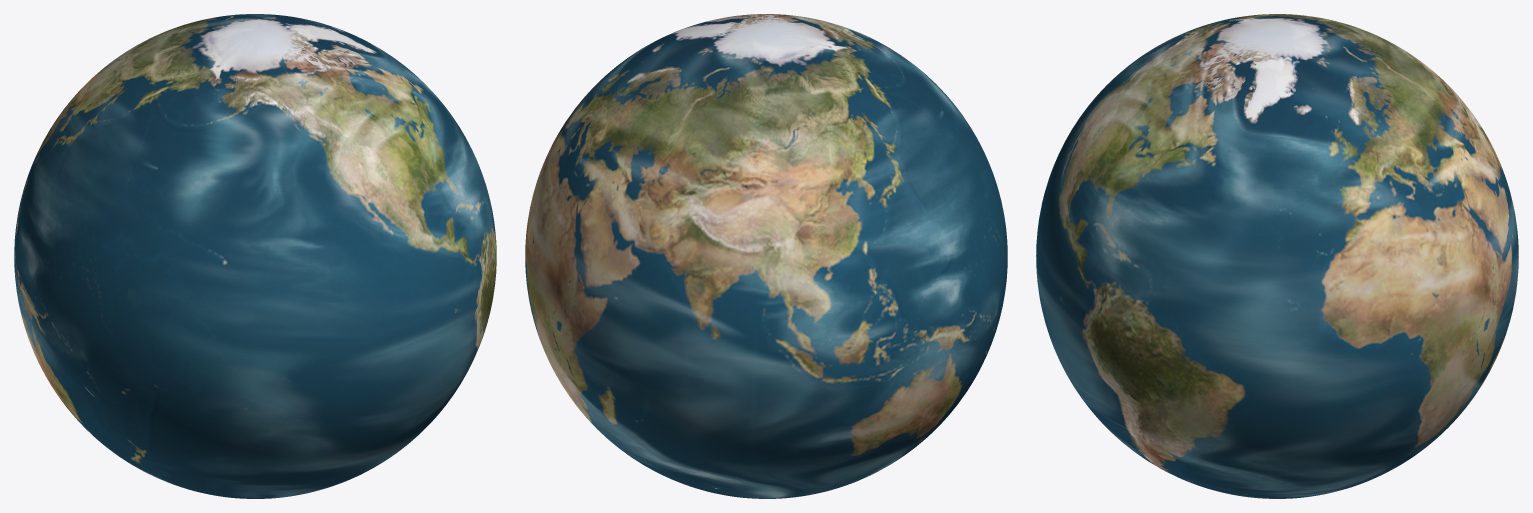
File: terra2.gltf
3 views of the same model, side by side, from view 1: azimuth 30°, elevation 25°; view 2: azimuth 150°, elevation 25°; view 3: azimuth 270°, elevation 25° (orthographic).
Visible parts, largest first — view 1: 13902_Earth_v1_l3; view 2: 13902_Earth_v1_l3; view 3: 13902_Earth_v1_l3.
Part boxes in pixels (x1,y1,x2,y2): 13902_Earth_v1_l3: (14,14,496,498); 13902_Earth_v1_l3: (525,14,1007,498); 13902_Earth_v1_l3: (1036,14,1518,498).
Bounding box in the file's own units: 20.47 × 20.64 × 20.47.
Materials: 1 (1 with a texture image).
